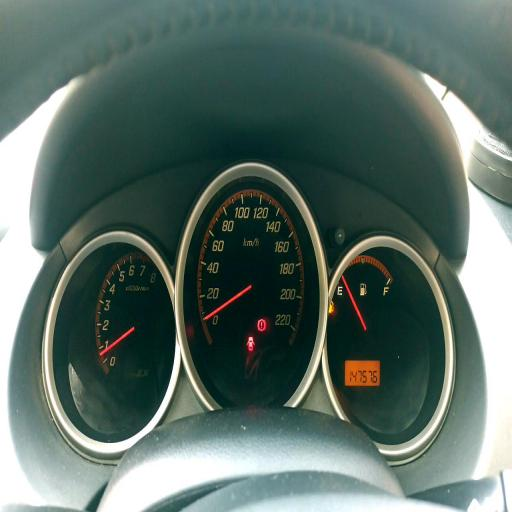brake_system_fault: (257, 318, 266, 332)
tachometer: (96, 254, 172, 380)
